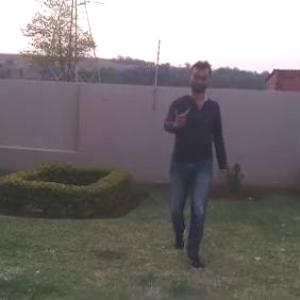takeoff-hand: (168, 101, 195, 131)
